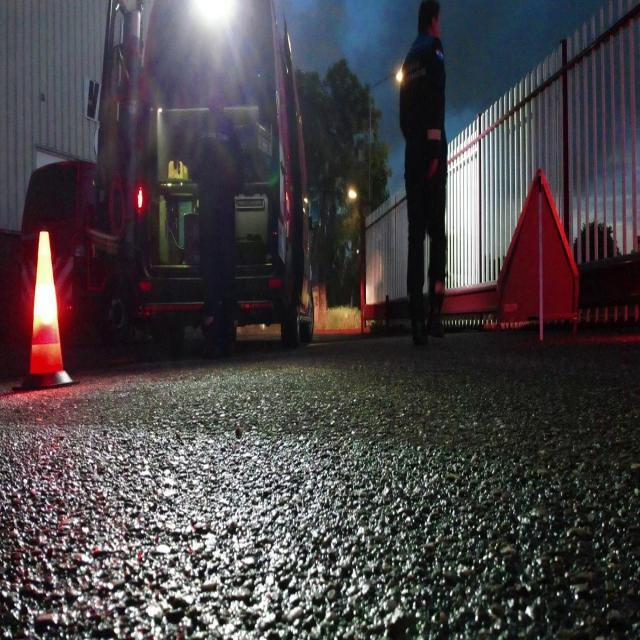Smoke: (290, 0, 640, 198)
